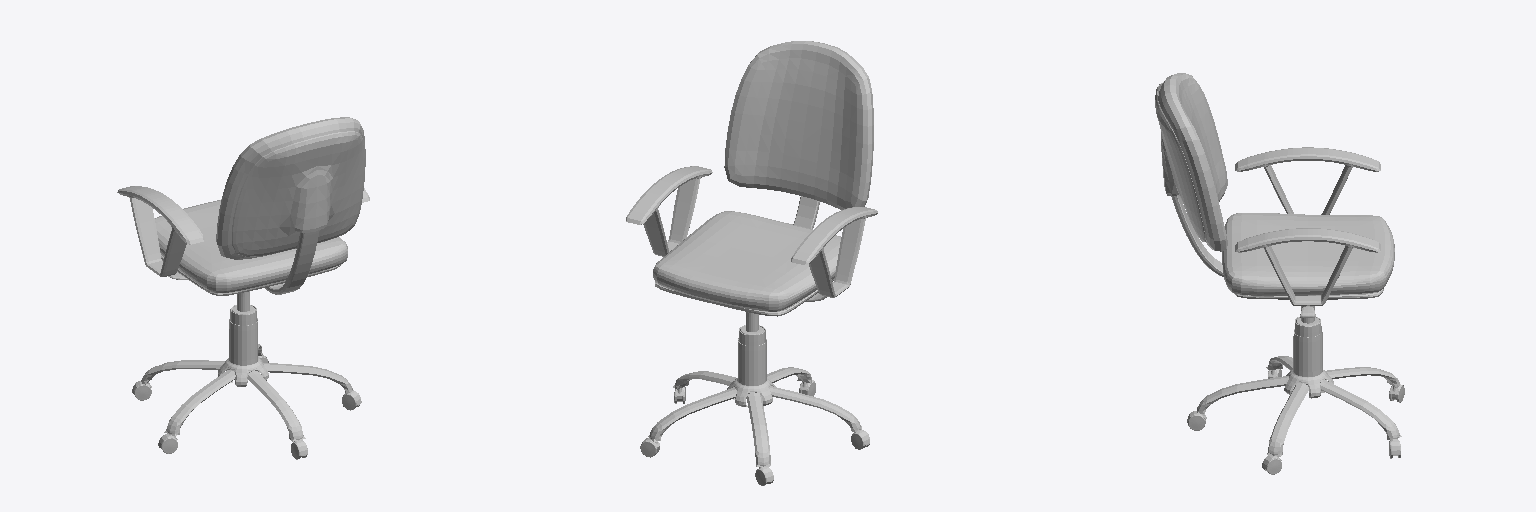
File: szek2.obj
3 renders of one model, left to right at view 1: azimuth 30°, elevation 25°; view 2: azimuth 150°, elevation 25°; view 3: azimuth 270°, elevation 25°, orthographic.
Parts seen in each view (by area): view 1: Chair; view 2: Chair; view 3: Chair.
Boxes of the visible parts, x1=… form: Chair: x1=117, y1=117, x2=369, y2=459; Chair: x1=626, y1=41, x2=877, y2=485; Chair: x1=1155, y1=73, x2=1404, y2=474.
Size of the model in its own units: 5.07 by 8.41 by 5.54.